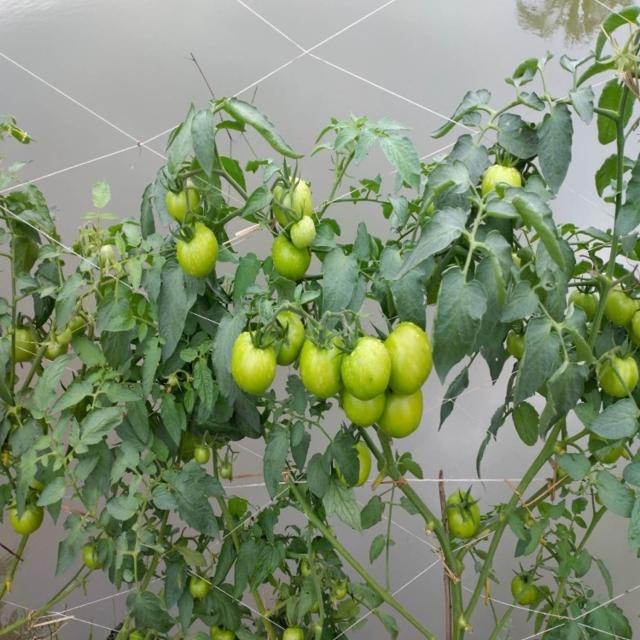tomato: (380, 322, 435, 392), (300, 325, 352, 395), (342, 334, 393, 400), (230, 332, 278, 396), (266, 167, 312, 222), (176, 226, 222, 275), (600, 273, 640, 326), (267, 306, 306, 360), (381, 394, 428, 438), (274, 238, 317, 284), (446, 491, 483, 541), (8, 498, 45, 548), (597, 355, 640, 396), (343, 394, 387, 432), (482, 161, 525, 197), (288, 215, 326, 253), (163, 182, 201, 220), (592, 440, 630, 473), (353, 440, 376, 488), (8, 325, 37, 363), (512, 568, 537, 611), (74, 539, 103, 576), (569, 289, 606, 316), (59, 303, 89, 336), (296, 558, 324, 586), (503, 329, 531, 355), (189, 435, 211, 468), (280, 620, 312, 640), (187, 573, 208, 601), (41, 336, 60, 363), (52, 322, 72, 347), (212, 620, 236, 640), (332, 579, 352, 601), (214, 461, 235, 480), (632, 312, 640, 354)
